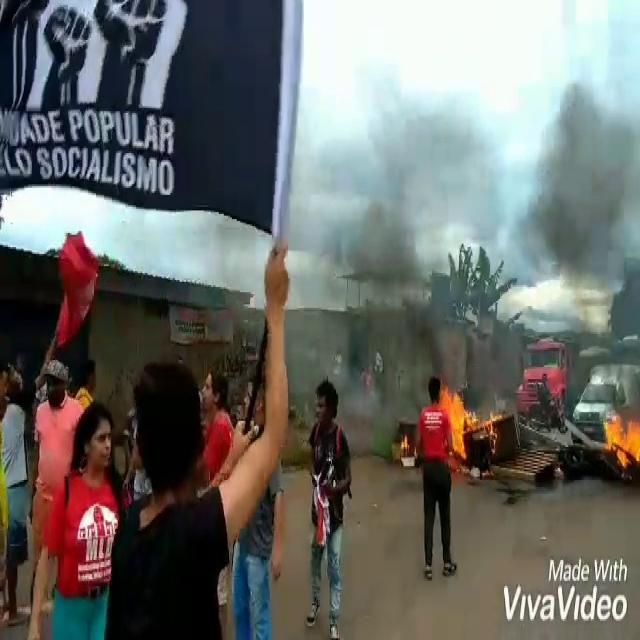Fire: (442, 382, 482, 458), (600, 413, 640, 475)
Smoke: (307, 84, 471, 366), (516, 66, 640, 320)
